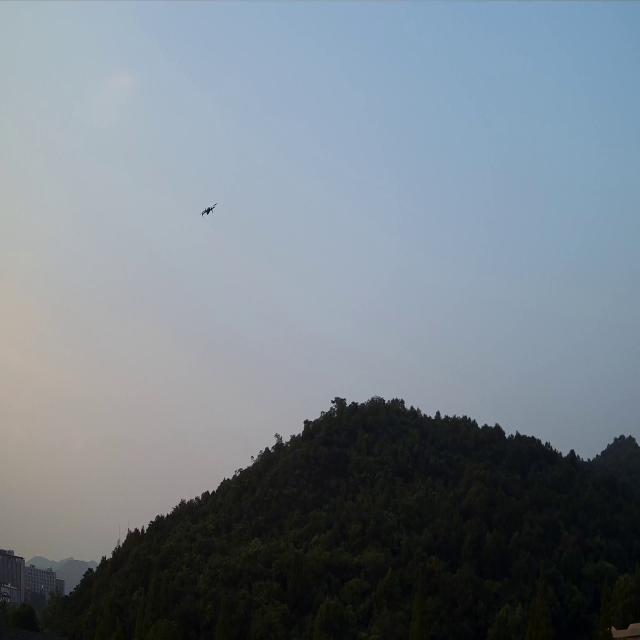UAV: (199, 200, 218, 219)
